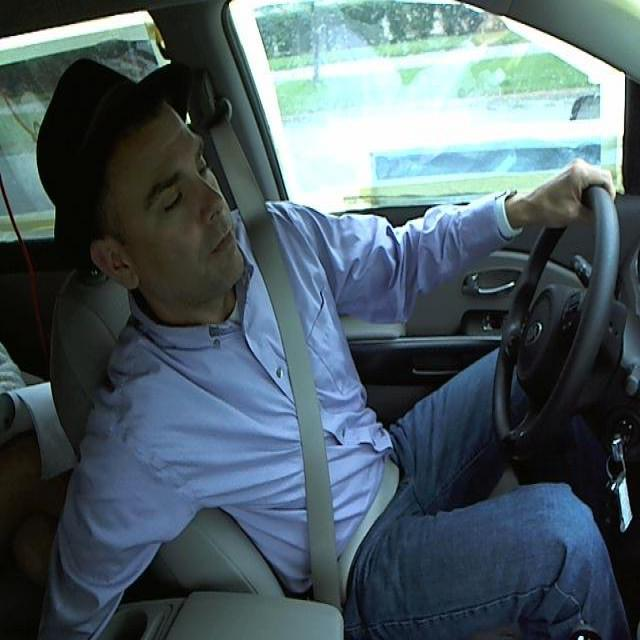seatbelt: (251, 245, 358, 578)
